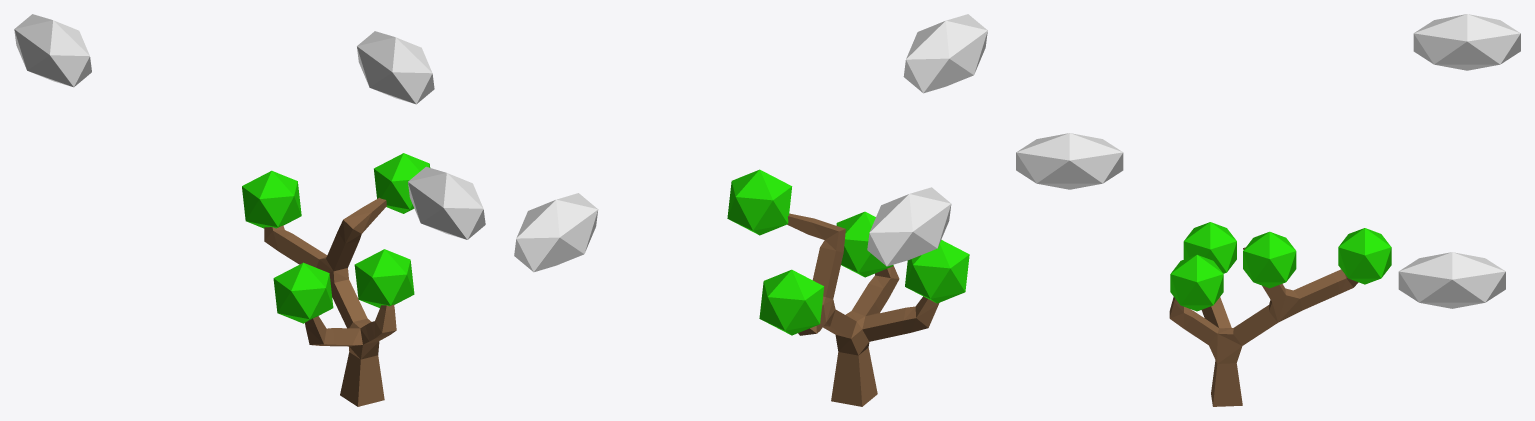
Rendered from Arbol.glb.
3 renders of one model, left to right at view 1: azimuth 30°, elevation 25°; view 2: azimuth 150°, elevation 25°; view 3: azimuth 270°, elevation 25°, orthographic. The views are drawn at different scales.
Parts seen in each view (by area): view 1: Cube.001, Esfera_geodésica.005, Esfera_geodésica.004, Esfera_geodésica.006, Esfera_geodésica.002, Esfera_geodésica.003, Esfera_geodésica.001, Esfera_geodésica; view 2: Cube.001, Esfera_geodésica.006, Esfera_geodésica.004, Esfera_geodésica.005, Esfera_geodésica.001, Esfera_geodésica, Esfera_geodésica.002, Esfera_geodésica.003; view 3: Cube.001, Esfera_geodésica.004, Esfera_geodésica.006, Esfera_geodésica.005, Esfera_geodésica, Esfera_geodésica.003, Esfera_geodésica.001, Esfera_geodésica.002.
Boxes of the visible parts, left/top/right/bottom form: Cube.001: left=264, top=197, right=396, bottom=406; Esfera_geodésica.005: left=357, top=31, right=434, bottom=104; Esfera_geodésica.004: left=408, top=166, right=485, bottom=239; Esfera_geodésica.006: left=14, top=14, right=91, bottom=87; Esfera_geodésica.002: left=273, top=262, right=333, bottom=323; Esfera_geodésica.003: left=354, top=249, right=414, bottom=307; Esfera_geodésica.001: left=242, top=170, right=301, bottom=228; Esfera_geodésica: left=374, top=153, right=430, bottom=213; Cube.001: left=787, top=213, right=939, bottom=406; Esfera_geodésica.006: left=867, top=187, right=951, bottom=266; Esfera_geodésica.004: left=903, top=14, right=987, bottom=93; Esfera_geodésica.005: left=514, top=193, right=598, bottom=272; Esfera_geodésica.001: left=759, top=269, right=824, bottom=335; Esfera_geodésica: left=727, top=169, right=792, bottom=235; Esfera_geodésica.002: left=905, top=240, right=969, bottom=303; Esfera_geodésica.003: left=836, top=211, right=893, bottom=277; Cube.001: left=1169, top=247, right=1358, bottom=406; Esfera_geodésica.004: left=1016, top=133, right=1123, bottom=189; Esfera_geodésica.006: left=1413, top=14, right=1520, bottom=70; Esfera_geodésica.005: left=1398, top=252, right=1505, bottom=308; Esfera_geodésica: left=1243, top=231, right=1296, bottom=288; Esfera_geodésica.003: left=1170, top=255, right=1223, bottom=311; Esfera_geodésica.001: left=1338, top=228, right=1391, bottom=284; Esfera_geodésica.002: left=1183, top=222, right=1236, bottom=273.
Size of the model in its own units: 10.54 by 8.53 by 12.81.
